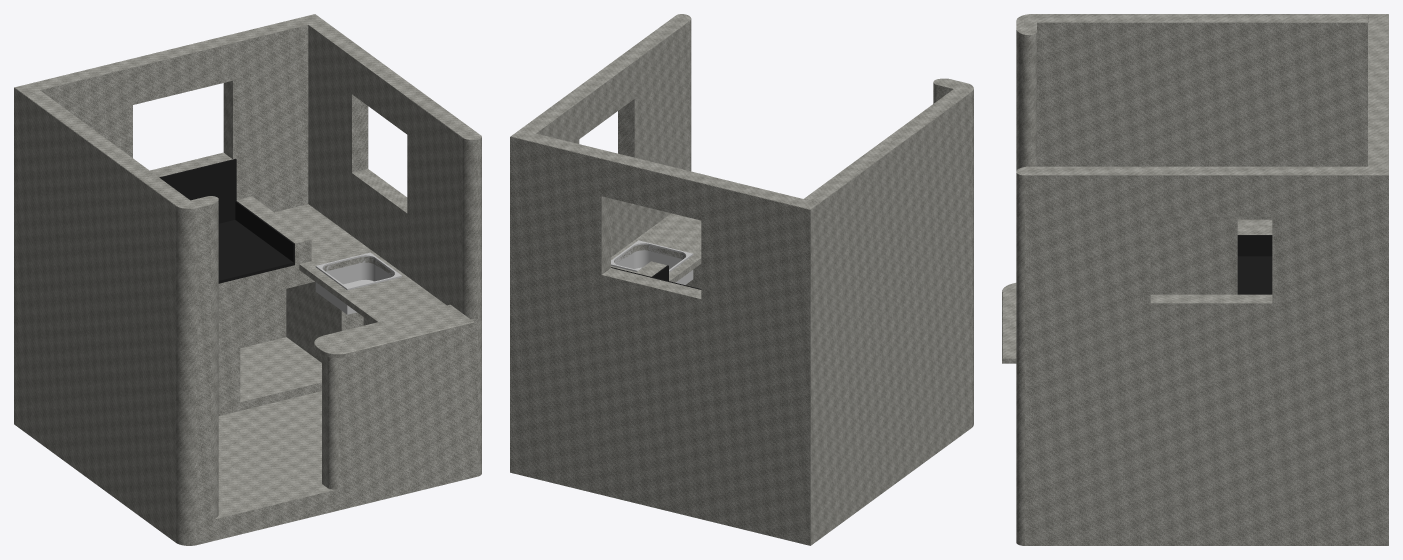
Rendered from barbacoa-v13-mwrnfo2j-materiales-corregidos.glb.
3 renders of one model, left to right at view 1: azimuth 30°, elevation 25°; view 2: azimuth 150°, elevation 25°; view 3: azimuth 270°, elevation 25°, orthographic. The views are drawn at different scales.
Visible parts, largest first — view 1: Body2, Body3, Body7, Body5, Body6, Body10, Body11, Body9, Body12; view 2: Body2, Body7, Body11; view 3: Body2, Body6, Body13.
Boxes of the visible parts, x1,y1,x2,y2 form: Body2: (14, 14, 481, 545); Body3: (218, 281, 363, 415); Body7: (299, 247, 446, 323); Body5: (218, 204, 367, 304); Body6: (218, 220, 294, 283); Body10: (159, 158, 236, 223); Body11: (315, 252, 401, 314); Body9: (236, 196, 311, 264); Body12: (235, 201, 294, 262); Body2: (510, 14, 973, 545); Body7: (611, 213, 701, 282); Body11: (611, 240, 693, 284); Body2: (1002, 14, 1388, 545); Body6: (1237, 256, 1272, 294); Body13: (1237, 235, 1272, 256).
Bounding box in the file's own units: 2.2 × 2.35 × 2.23.
4 materials, 2 textured.
